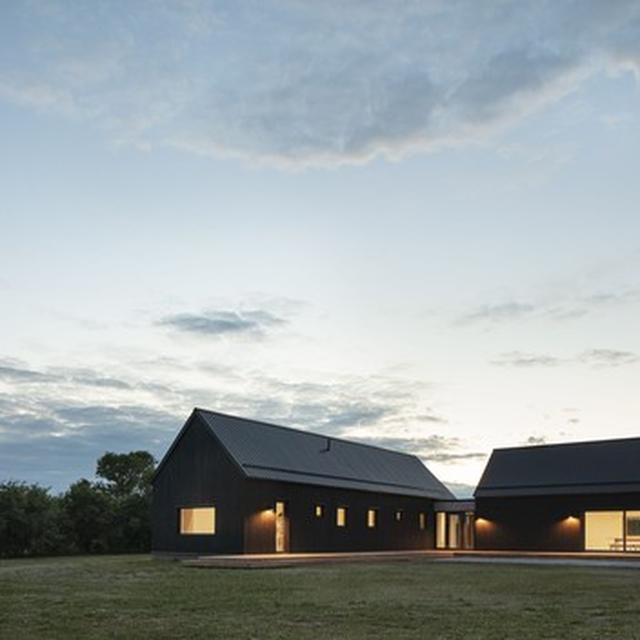building: (162, 404, 458, 547), (474, 432, 640, 553)
